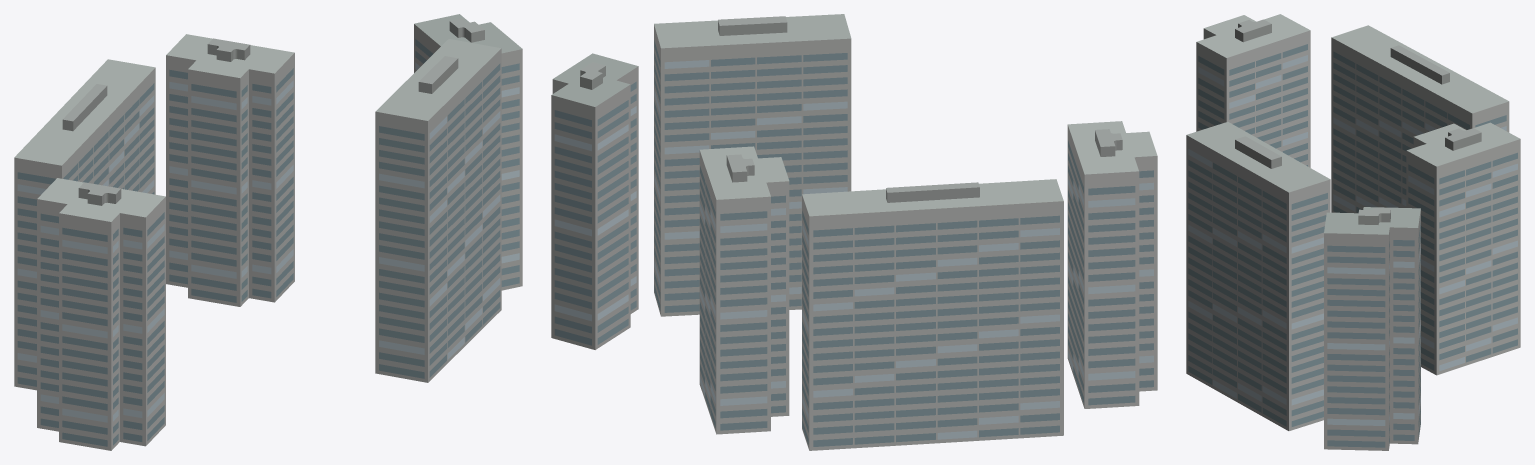
File: apt-a15205303.glb
3 views of the same model, side by side, from view 1: azimuth 30°, elevation 25°; view 2: azimuth 150°, elevation 25°; view 3: azimuth 270°, elevation 25° (orthographic). The views are drawn at different scales.
Visible parts, largest first — view 1: apt-a15205303; view 2: apt-a15205303; view 3: apt-a15205303.
Part boxes in pixels (x1,y1,x2,y2): apt-a15205303: (14,14,522,450); apt-a15205303: (551,14,1157,450); apt-a15205303: (1186,14,1520,450).
Size of the model in its own units: 130 by 66 by 80.72.
